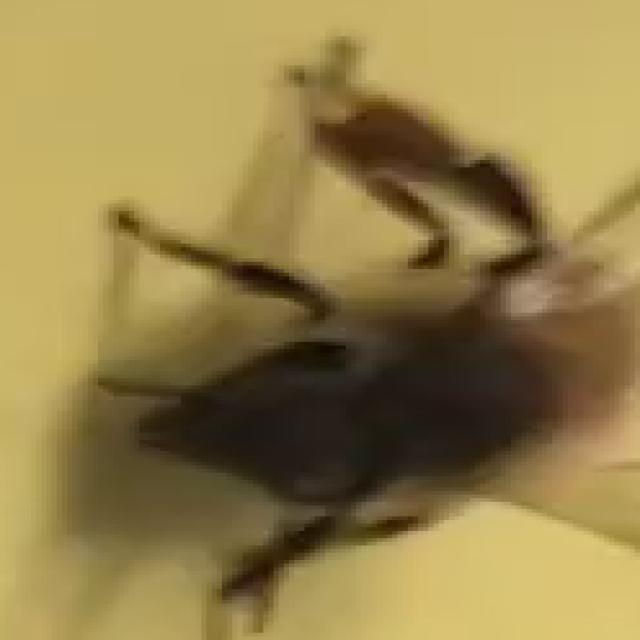honeybee: (50, 130, 640, 598)
